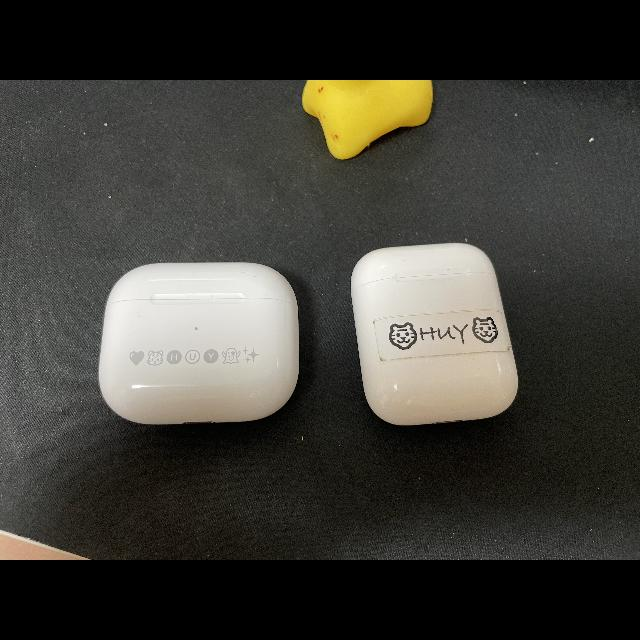airpod2: (340, 241, 524, 431)
airpod3: (92, 254, 306, 428)
